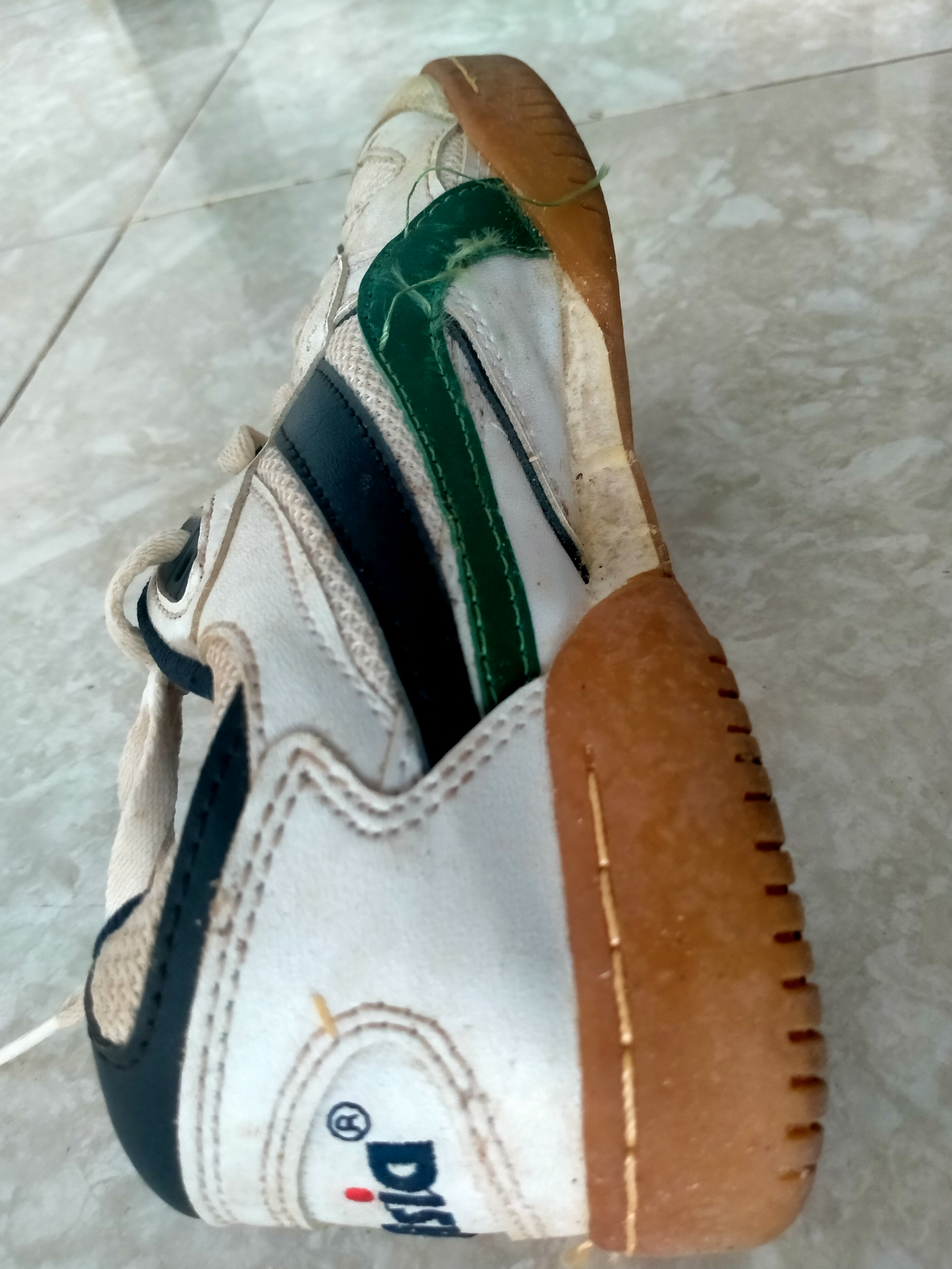broken: (364, 227, 413, 356), (431, 243, 478, 323)
